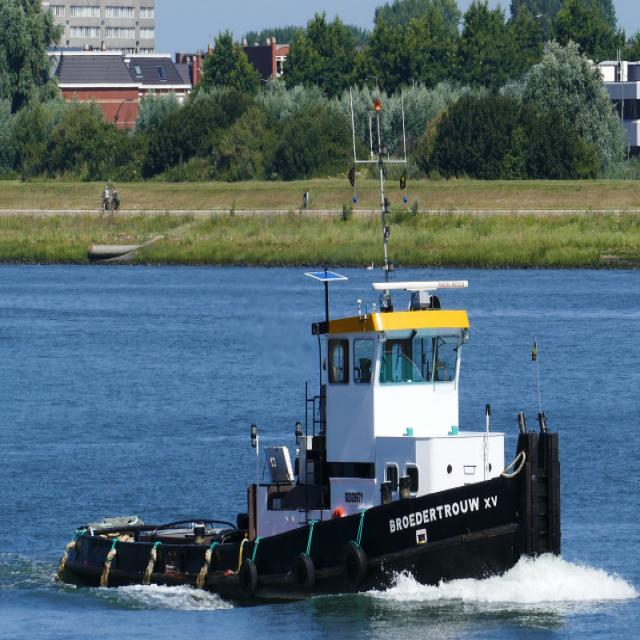tugboat: (50, 82, 566, 620)
